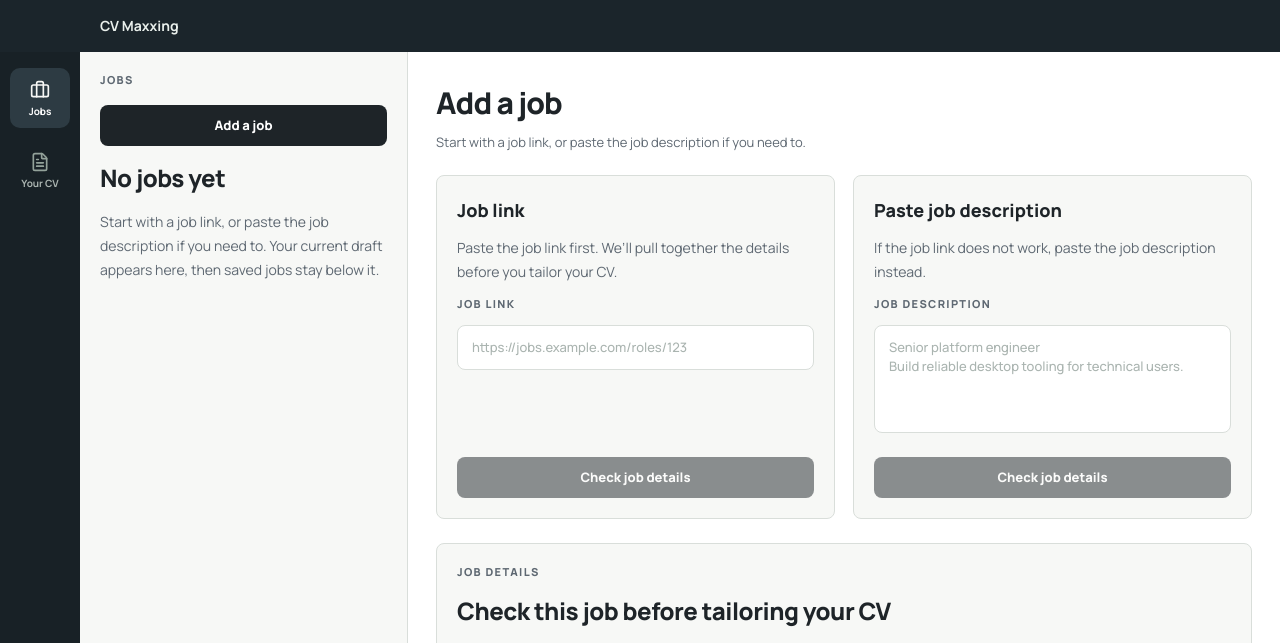
Test: shows a shared draft alert when saving draft changes fails
Expected: the heading "Add a job" is shown, x1=436 y1=82 x2=562 y2=123
Replace the text in the text box labelled "Job description" with "Lead product design for desktop workflows." at (1052, 379), box x1=874 y1=325 x2=1231 y2=433
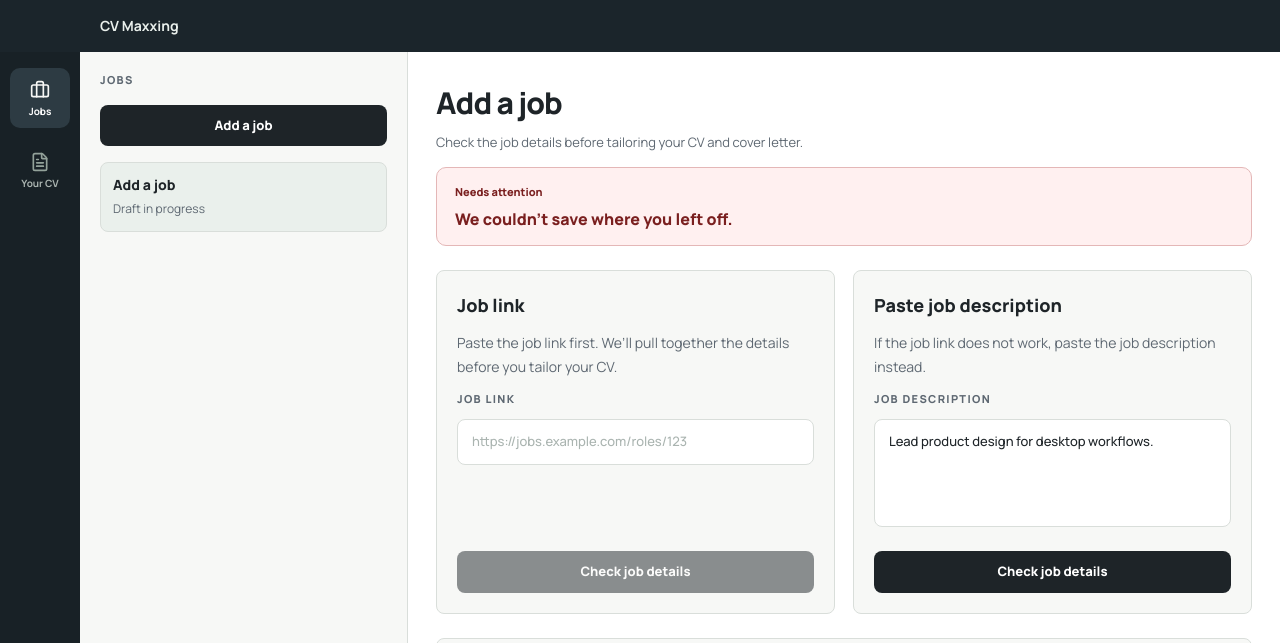
Expected: the message "Needs attention We couldn't save where you left off." is shown, x1=436 y1=167 x2=1252 y2=246
Expected: the text "We couldn't save where you left off." is shown once, x1=455 y1=208 x2=732 y2=230
